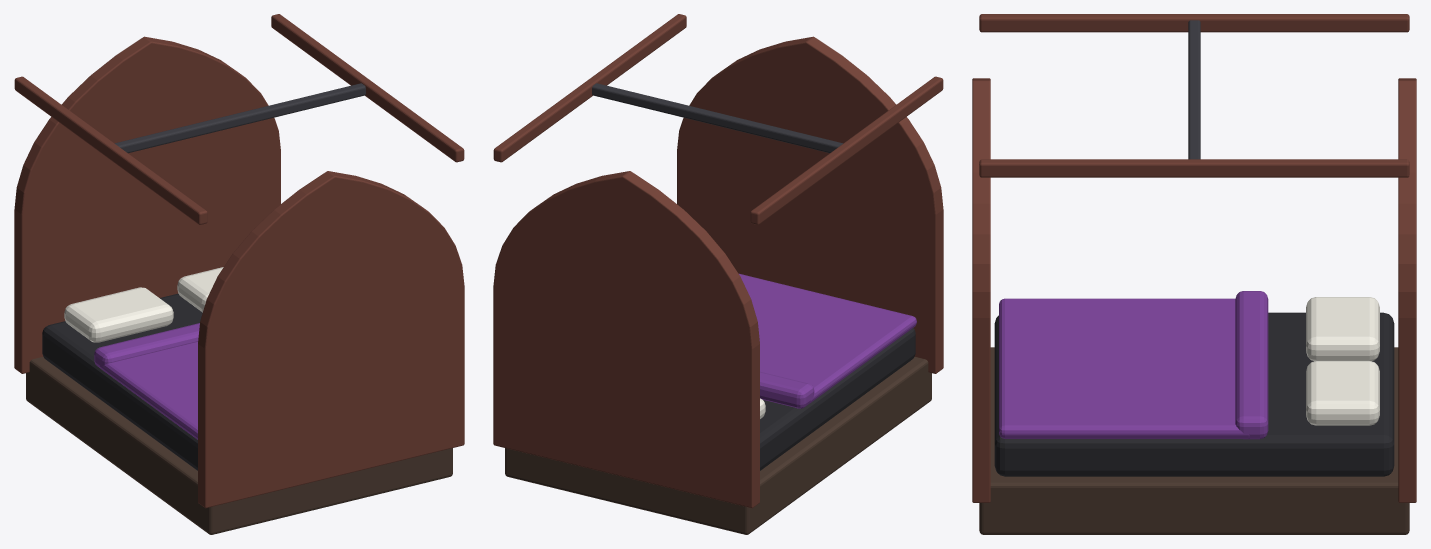
The model's file is bed_double_arch.glb.
3 renders of one model, left to right at view 1: azimuth 30°, elevation 25°; view 2: azimuth 150°, elevation 25°; view 3: azimuth 270°, elevation 25°, orthographic. The views are drawn at different scales.
Parts seen in each view (by area): view 1: GD_bed_double_arch__m5, GD_bed_double_arch__m0, GD_bed_double_arch__m1, GD_bed_double_arch__m3, GD_bed_double_arch__m4, GD_bed_double_arch__m2; view 2: GD_bed_double_arch__m5, GD_bed_double_arch__m0, GD_bed_double_arch__m3, GD_bed_double_arch__m1, GD_bed_double_arch__m2; view 3: GD_bed_double_arch__m3, GD_bed_double_arch__m5, GD_bed_double_arch__m0, GD_bed_double_arch__m1, GD_bed_double_arch__m4, GD_bed_double_arch__m2.
Part boxes in pixels (x1,y1,x2,y2): GD_bed_double_arch__m5: (14, 14, 464, 508); GD_bed_double_arch__m0: (26, 357, 452, 534); GD_bed_double_arch__m1: (42, 293, 202, 470); GD_bed_double_arch__m3: (94, 323, 199, 439); GD_bed_double_arch__m4: (64, 267, 223, 342); GD_bed_double_arch__m2: (114, 83, 365, 153); GD_bed_double_arch__m5: (493, 14, 943, 508); GD_bed_double_arch__m0: (505, 357, 931, 534); GD_bed_double_arch__m3: (739, 273, 916, 408); GD_bed_double_arch__m1: (760, 328, 915, 470); GD_bed_double_arch__m2: (592, 83, 843, 153); GD_bed_double_arch__m3: (999, 291, 1268, 439); GD_bed_double_arch__m5: (972, 14, 1416, 502); GD_bed_double_arch__m0: (979, 347, 1409, 534); GD_bed_double_arch__m1: (994, 312, 1394, 476); GD_bed_double_arch__m4: (1306, 297, 1379, 425); GD_bed_double_arch__m2: (1188, 20, 1200, 159).
Bounding box in the file's own units: 1.74 × 2.08 × 2.17.
